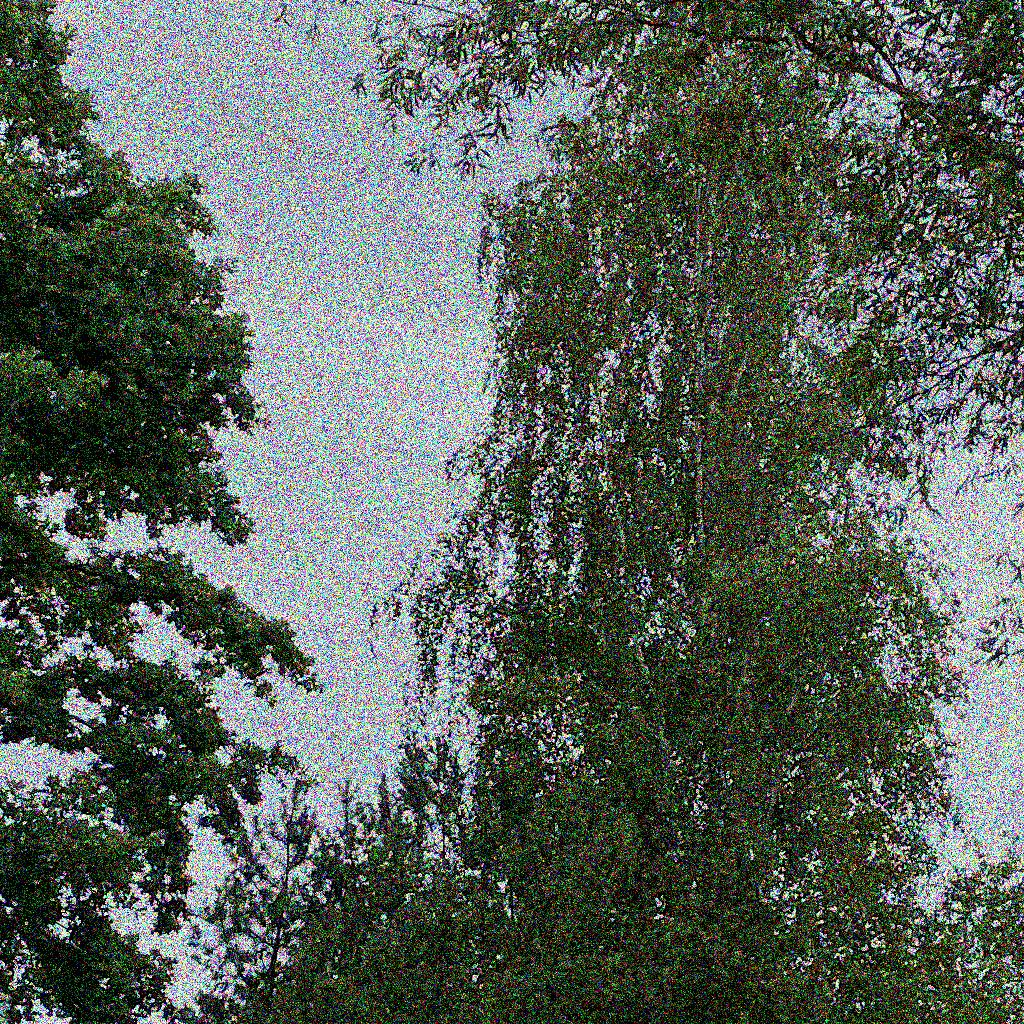tree: (158, 1, 1023, 1024), (273, 1, 1023, 670), (1, 1, 328, 1023)
